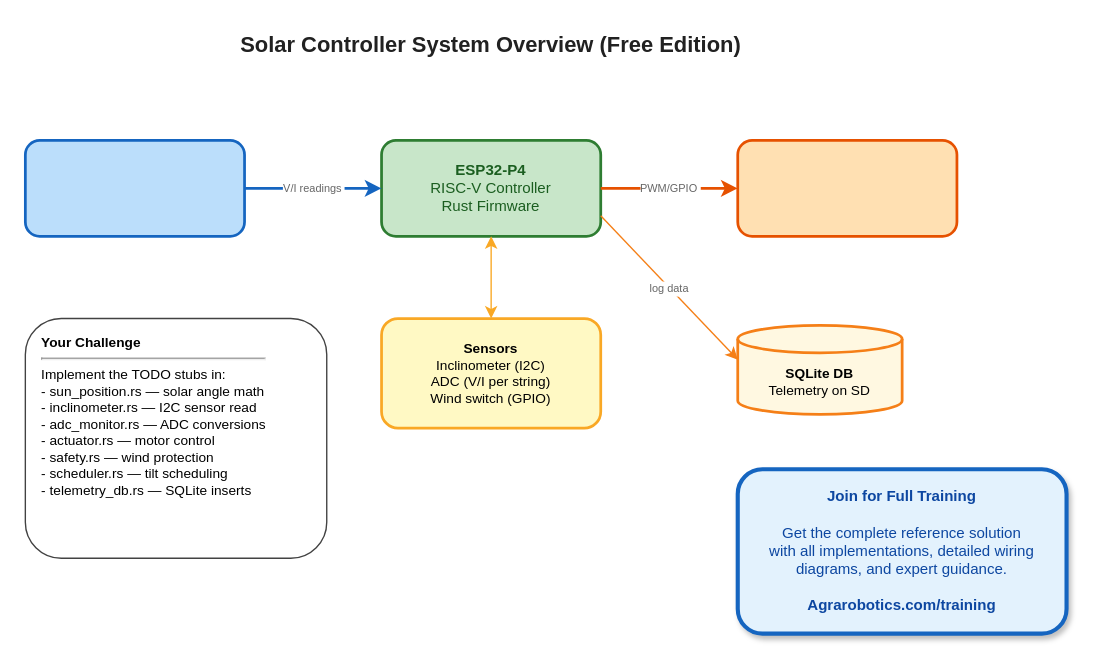
Some shapes in this 1100 by 669 pixel diagram are drawn without their labels. The shapes that lost their labels are listed below. From the top down, each one's centre as x and y in pixels, then its label:
At point 134,187: "Solar Array 12 panels, 7.44 kWp 3 strings x 4 series".
At point 847,187: "Linear Actuator Tilt: 8 deg - 24 deg".
